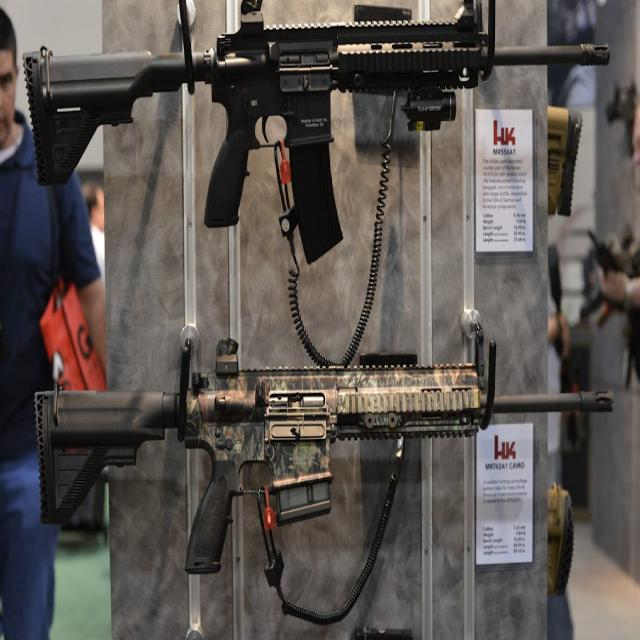firearm: (22, 0, 609, 266), (34, 339, 613, 572), (580, 229, 626, 329)
